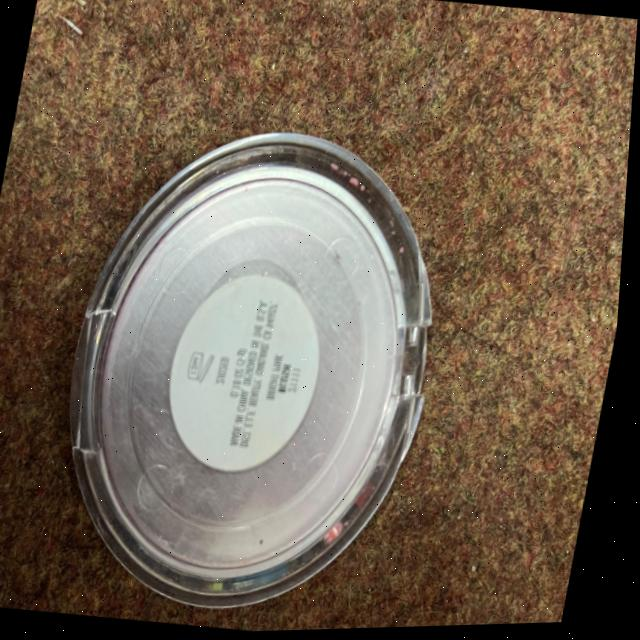highlighter: (29, 98, 490, 637)
